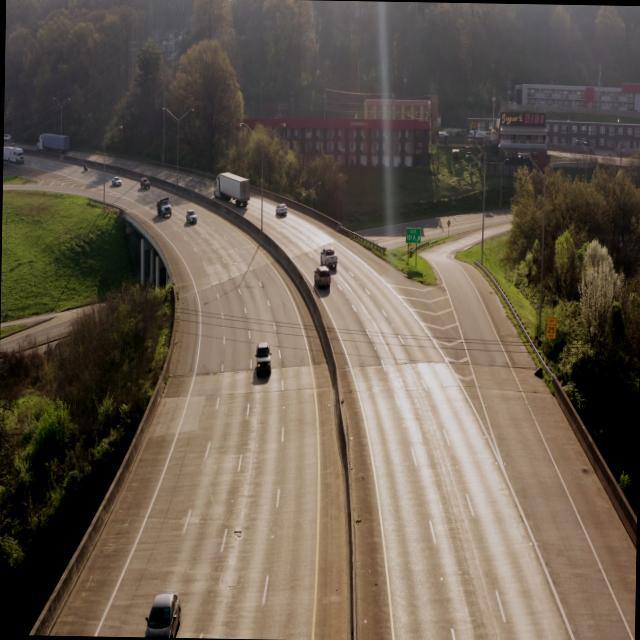Vehicle: (140, 581, 183, 638), (254, 336, 274, 384), (310, 266, 332, 296), (318, 245, 340, 272)
